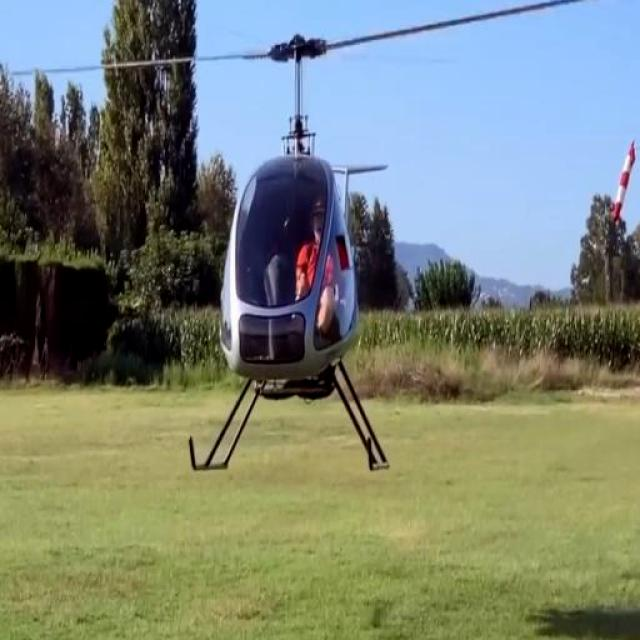drone: (0, 0, 640, 484)
